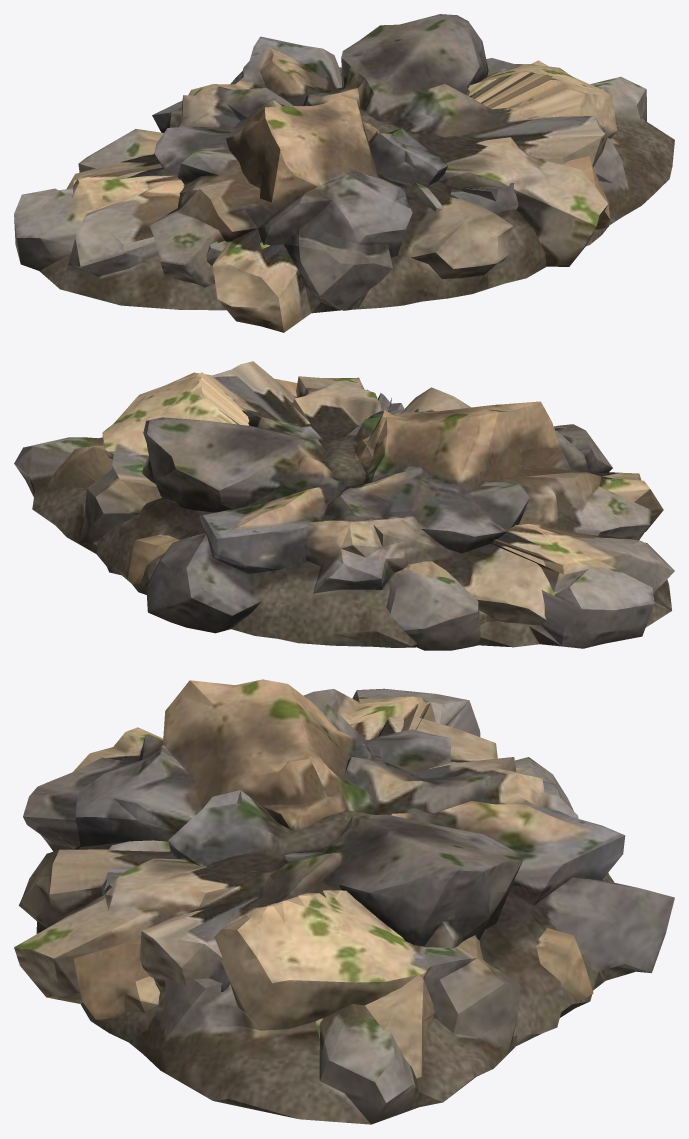
File: ScreePile_preview.glb
3 renders of one model, top to bottom at view 1: azimuth 30°, elevation 25°; view 2: azimuth 150°, elevation 25°; view 3: azimuth 270°, elevation 25°, orthographic. The views are drawn at different scales.
Parts seen in each view (by area): view 1: ScreePile_A_LOD0, ScreePile_B_LOD0; view 2: ScreePile_A_LOD0, ScreePile_B_LOD0; view 3: ScreePile_A_LOD0, ScreePile_B_LOD0.
Boxes of the visible parts, left/top/right/bottom form: ScreePile_A_LOD0: left=66, top=14, right=610, bottom=332; ScreePile_B_LOD0: left=14, top=58, right=674, bottom=310; ScreePile_A_LOD0: left=47, top=361, right=663, bottom=647; ScreePile_B_LOD0: left=14, top=372, right=674, bottom=650; ScreePile_A_LOD0: left=14, top=679, right=674, bottom=1078; ScreePile_B_LOD0: left=73, top=688, right=593, bottom=1124.
Size of what is drawn, in the model's own units: 4.98 by 1.07 by 3.52.
1 material, 1 textured.
